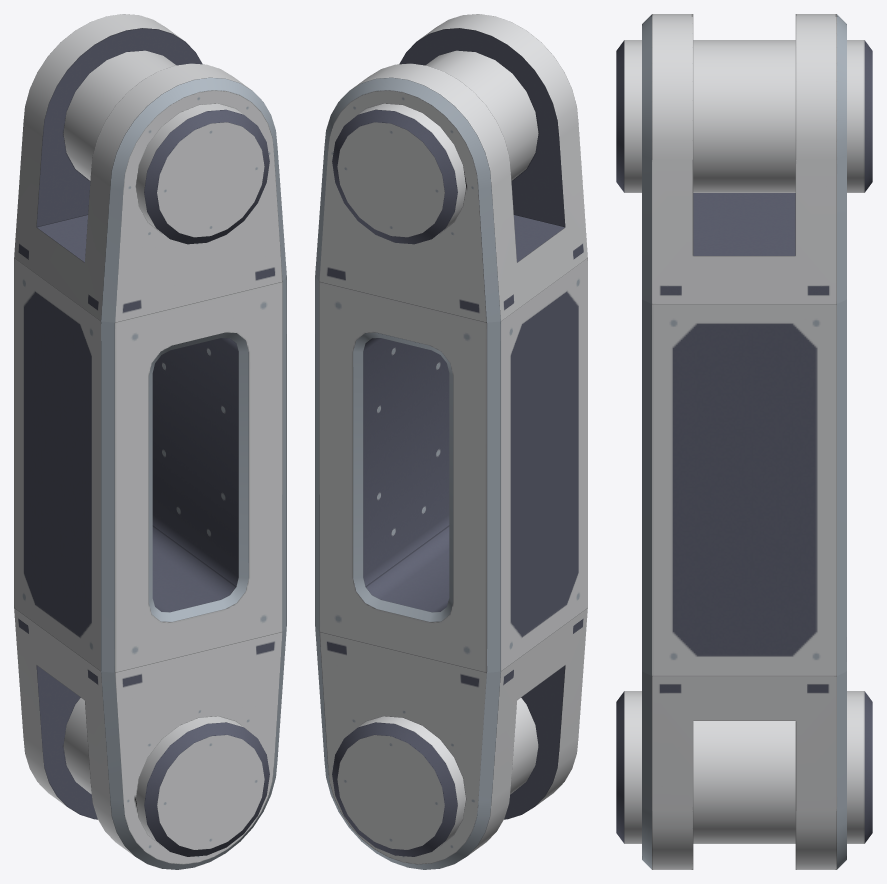
The model's file is Articulated_Arm_01.FBX.
The picture shows the model from 3 angles, left to right: view 1: azimuth 30°, elevation 25°; view 2: azimuth 150°, elevation 25°; view 3: azimuth 270°, elevation 25°; orthographic projection. The views are drawn at different scales.
Parts seen in each view (by area): view 1: Articulated_Arm_01; view 2: Articulated_Arm_01; view 3: Articulated_Arm_01.
Part boxes in pixels (<box>): Articulated_Arm_01: <box>14,14,286,869</box>; Articulated_Arm_01: <box>315,14,587,869</box>; Articulated_Arm_01: <box>616,14,872,869</box>.
Size of the model in its own units: 2.22 by 9 by 2.5.
Materials: 3 (3 with a texture image).
